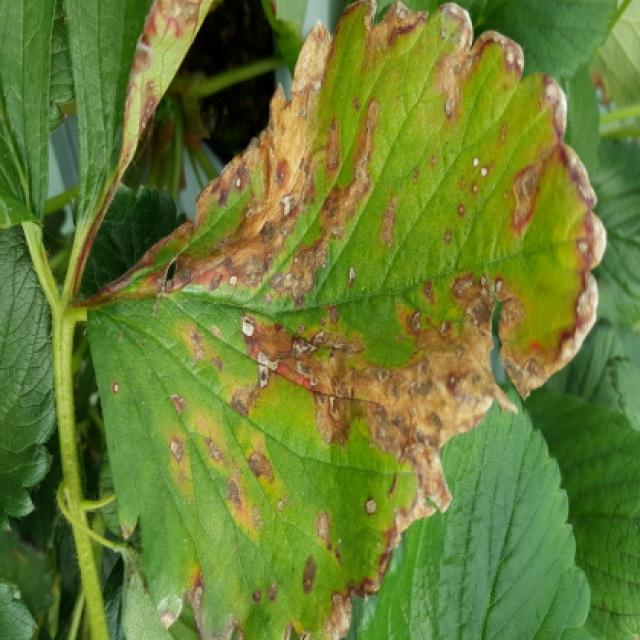Angular Leafspot: (73, 0, 610, 638), (60, 0, 212, 295)
